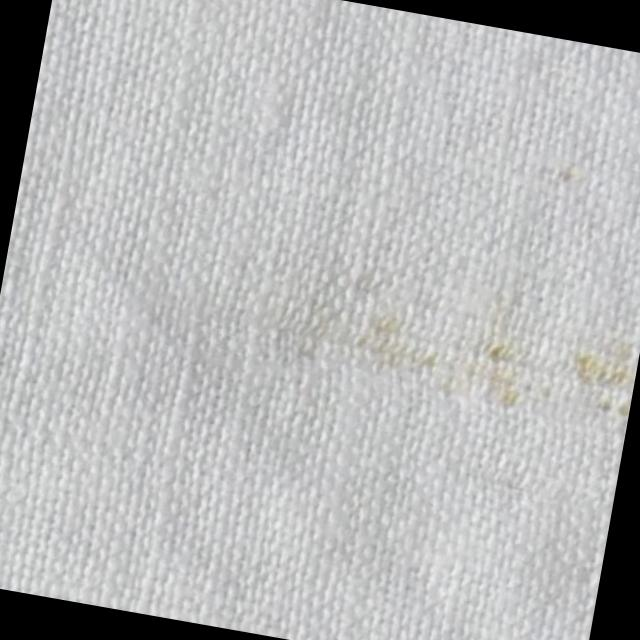Stain: (302, 301, 638, 435)
